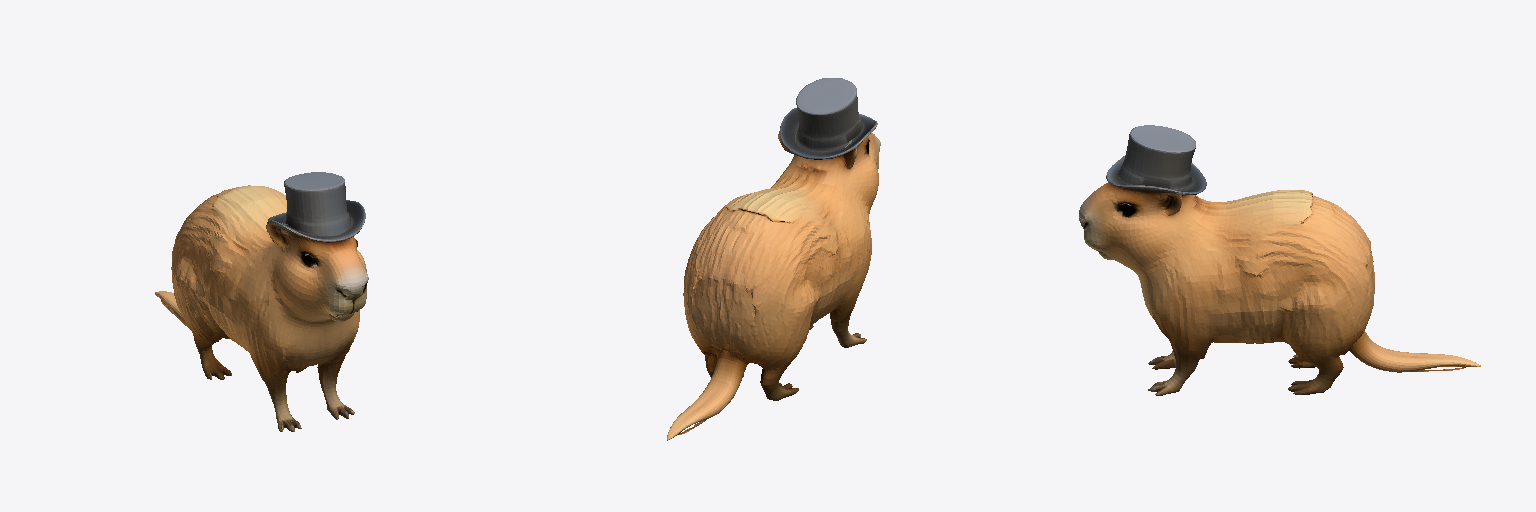
3 views of the same model, side by side, from view 1: azimuth 30°, elevation 25°; view 2: azimuth 150°, elevation 25°; view 3: azimuth 270°, elevation 25° (orthographic).
Size of the model in its own units: 0.6558 by 1.28 by 1.9.
Materials: 1 (1 with a texture image).